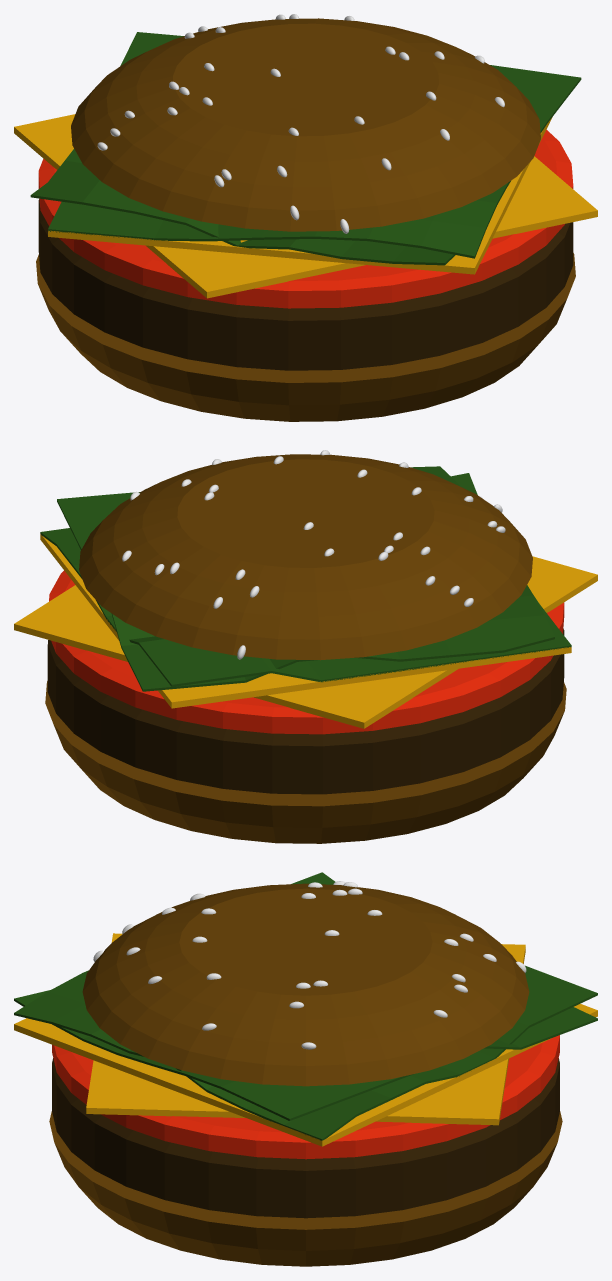
The model's file is Burger.fbx.
The picture shows the model from 3 angles, top to bottom: view 1: azimuth 30°, elevation 25°; view 2: azimuth 150°, elevation 25°; view 3: azimuth 270°, elevation 25°; orthographic projection. The views are drawn at different scales.
Visible parts, largest first — view 1: Sphere, Cylinder, Sphere.001, Cylinder.001, Plane.004, Plane.002, Plane.003, Plane.001; view 2: Sphere, Cylinder, Sphere.001, Cylinder.001, Plane.004, Plane.003, Plane.002, Plane.001; view 3: Sphere, Cylinder, Sphere.001, Cylinder.001, Plane.002, Plane.004, Plane.003, Plane.001.
Part boxes in pixels (x1,y1,x2,y2): Sphere: (71,18,540,231); Cylinder: (38,199,573,370); Sphere.001: (36,253,575,421); Cylinder.001: (38,129,573,308); Plane.004: (14,114,597,298); Plane.002: (48,32,509,258); Plane.003: (30,65,581,265); Plane.001: (48,117,552,274); Sphere: (79,454,532,660); Cylinder: (47,628,564,794); Sphere.001: (45,681,566,843); Cylinder.001: (49,570,564,734); Plane.004: (14,556,597,728); Plane.003: (57,473,554,691); Plane.002: (40,466,571,686); Plane.001: (40,534,571,708); Sphere: (82,883,529,1086); Cylinder: (52,1058,559,1218); Sphere.001: (49,1111,562,1266); Cylinder.001: (52,1035,559,1159); Plane.002: (14,965,597,1140); Plane.004: (86,933,525,1125); Plane.003: (14,872,597,1120); Plane.001: (14,1003,597,1146).
Bounding box in the file's own units: 256 × 113 × 256.
